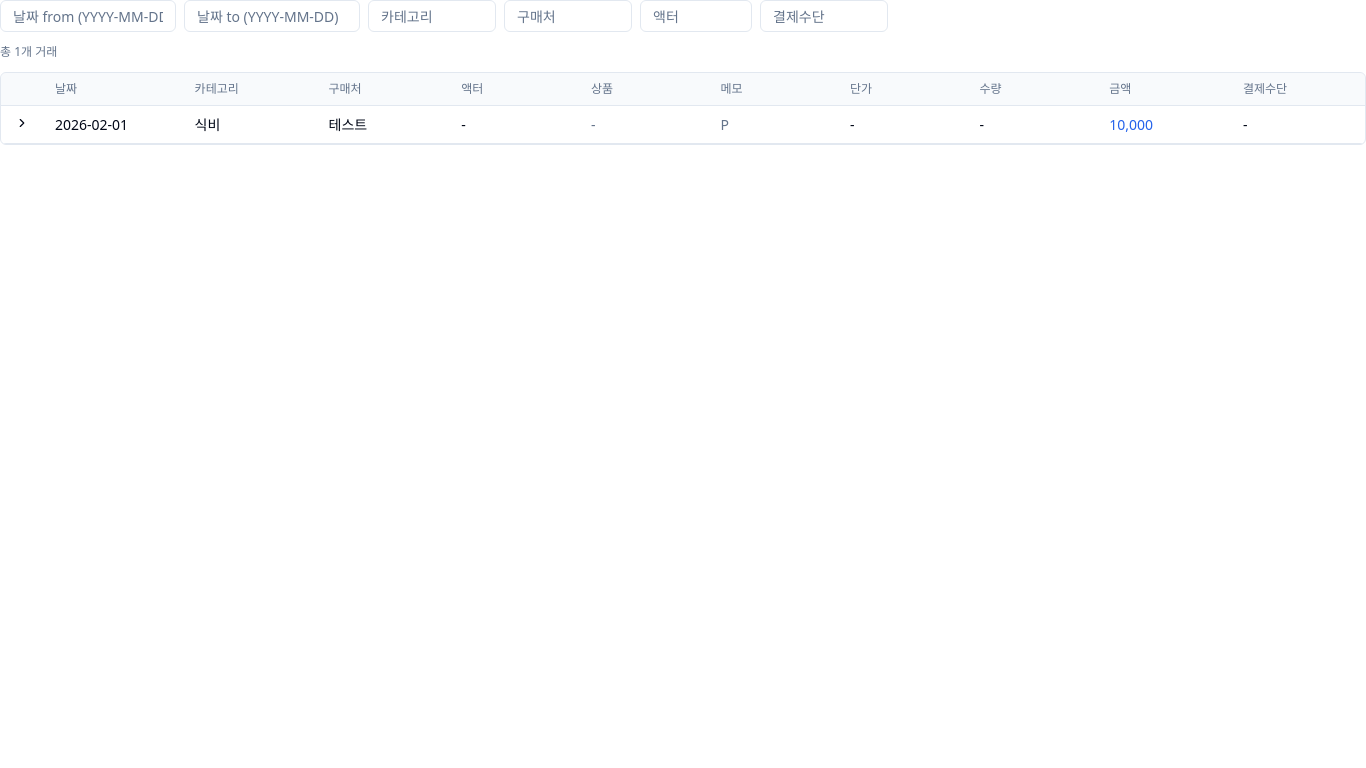
TransactionsTable expansion › expands a 17-child group quickly without rerender storm
Click the button named "펼치기". click: {"x": 22, "y": 123}
box: [13,114,31,132]
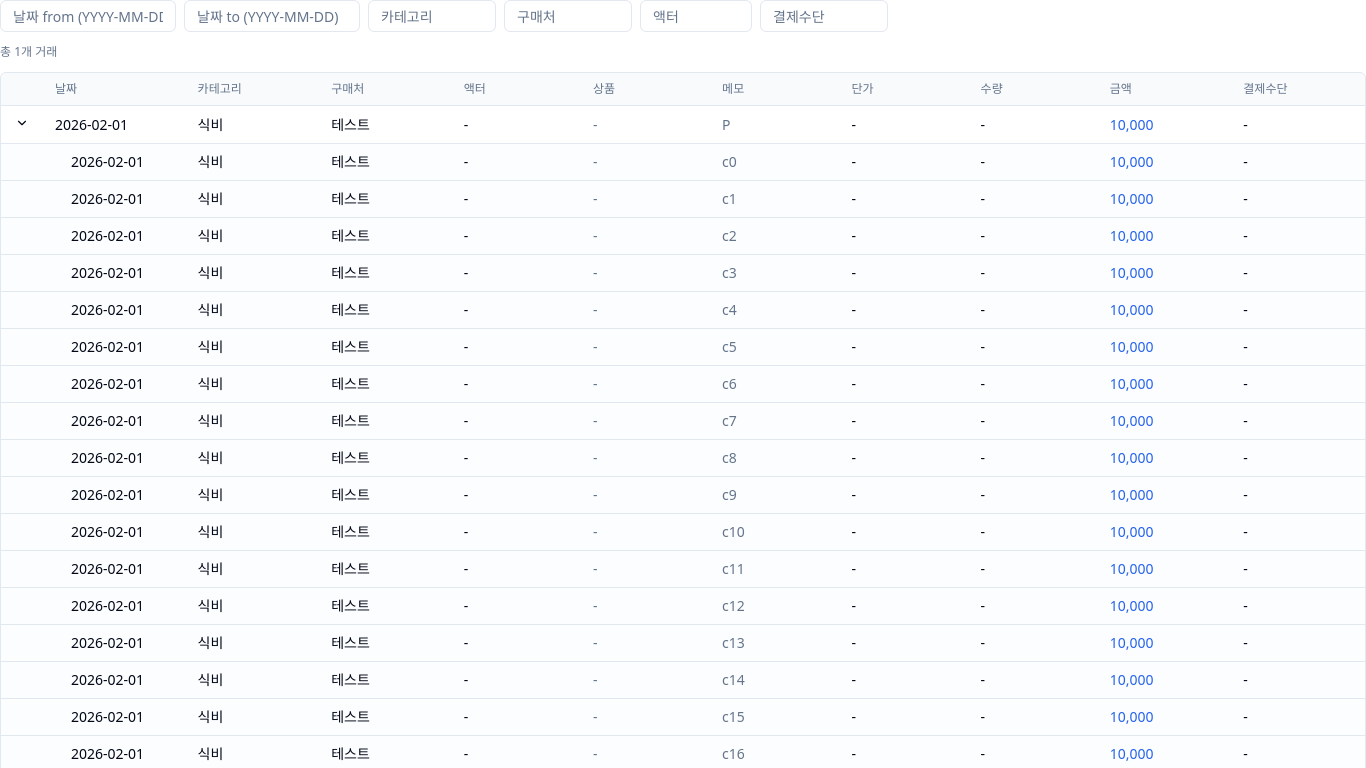
Expected: the text "c0" is shown, [722,152,737,171]
Expected: the text "c1" is shown, [722,189,737,208]
Expected: the text "c2" is shown, [722,226,737,245]
